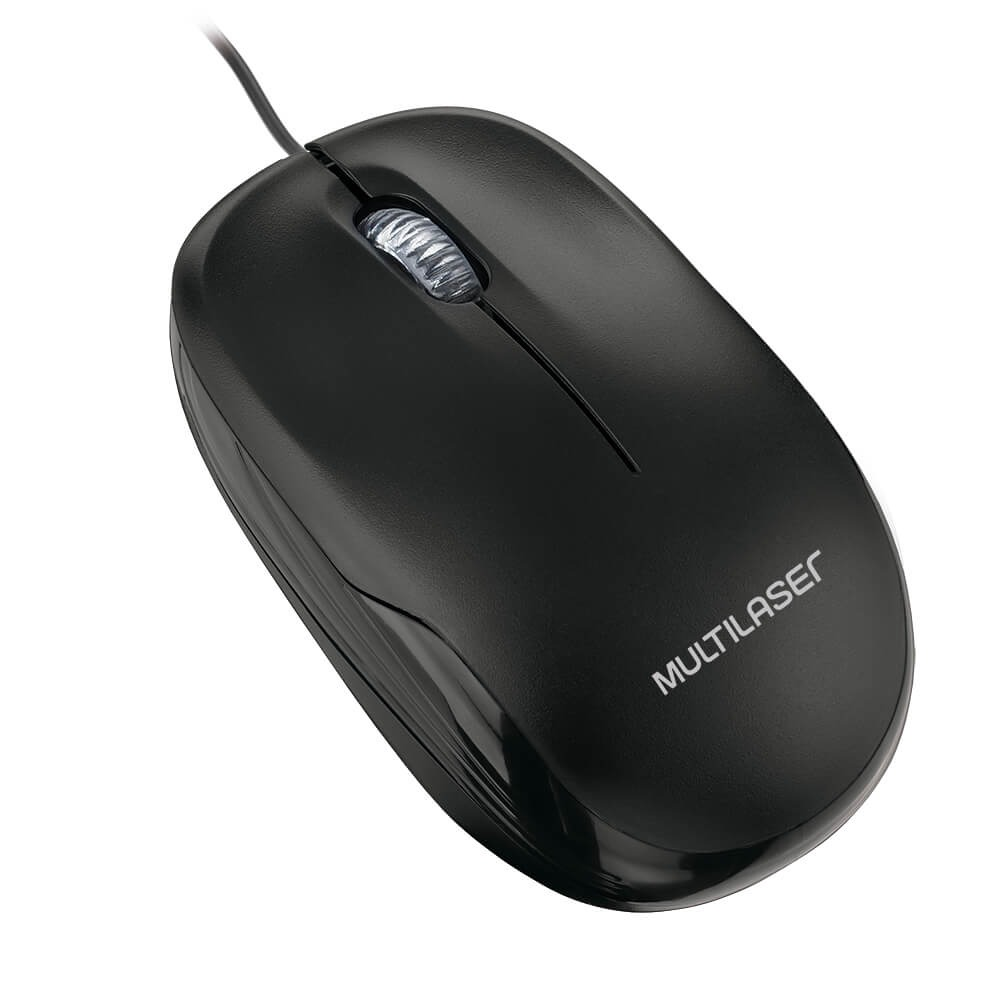mouse: (144, 97, 935, 919)
